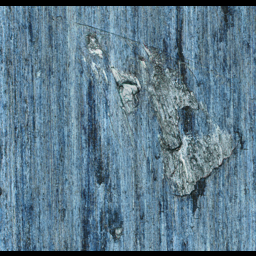d: (79, 31, 246, 213), (106, 214, 124, 242)
